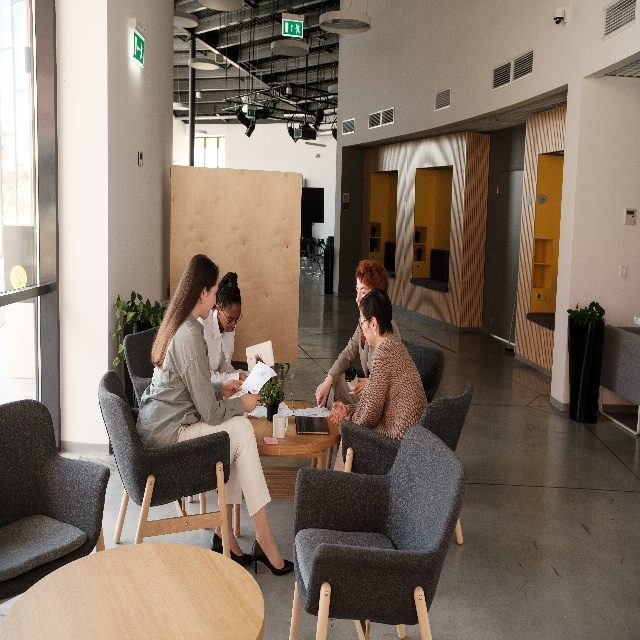Gafas: (228, 309, 243, 327), (358, 317, 371, 333)
Sin_guantes: (315, 381, 332, 409), (328, 399, 346, 424), (243, 391, 260, 415), (222, 378, 240, 398), (349, 379, 366, 397), (253, 354, 264, 366)
